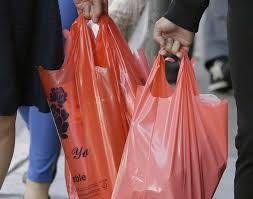Plastic: (53, 17, 152, 198), (120, 50, 228, 198)
